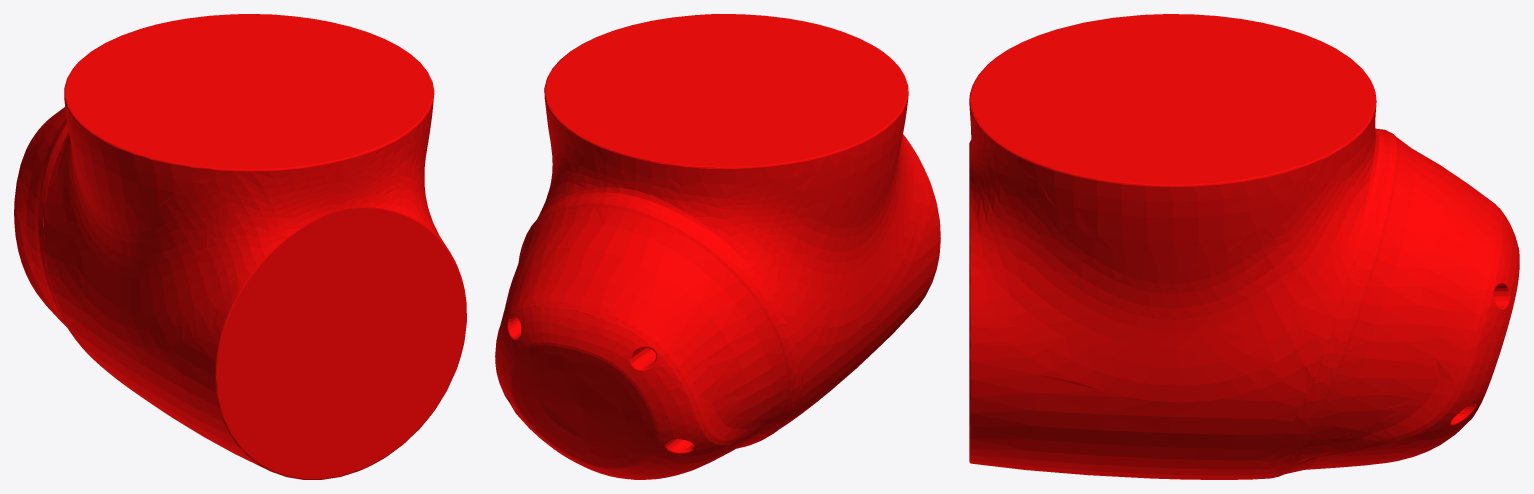
3 renders of one model, left to right at view 1: azimuth 30°, elevation 25°; view 2: azimuth 150°, elevation 25°; view 3: azimuth 270°, elevation 25°, orthographic. The views are drawn at different scales.
Parts seen in each view (by area): view 1: A0912_3_2; view 2: A0912_3_2; view 3: A0912_3_2.
Boxes of the visible parts, bbox=[...] form: A0912_3_2: bbox=[14, 14, 466, 479]; A0912_3_2: bbox=[495, 14, 940, 479]; A0912_3_2: bbox=[969, 14, 1519, 479].
Size of the model in its own units: 116 by 156 by 114.
